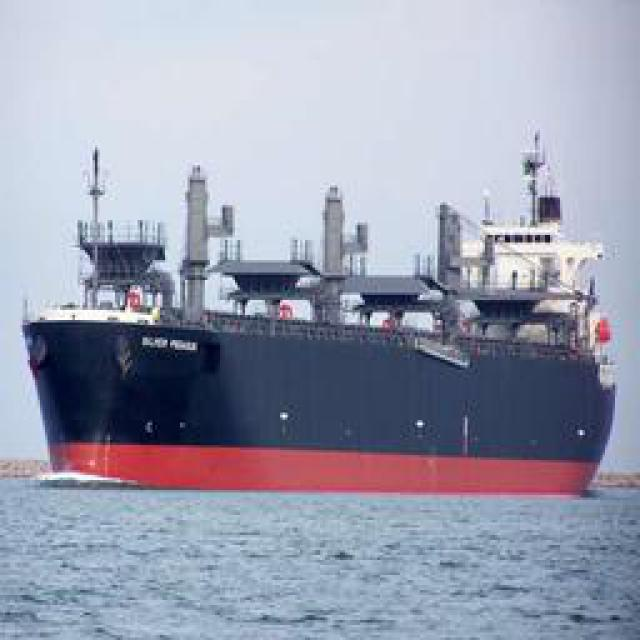Ship: (28, 118, 623, 506)
